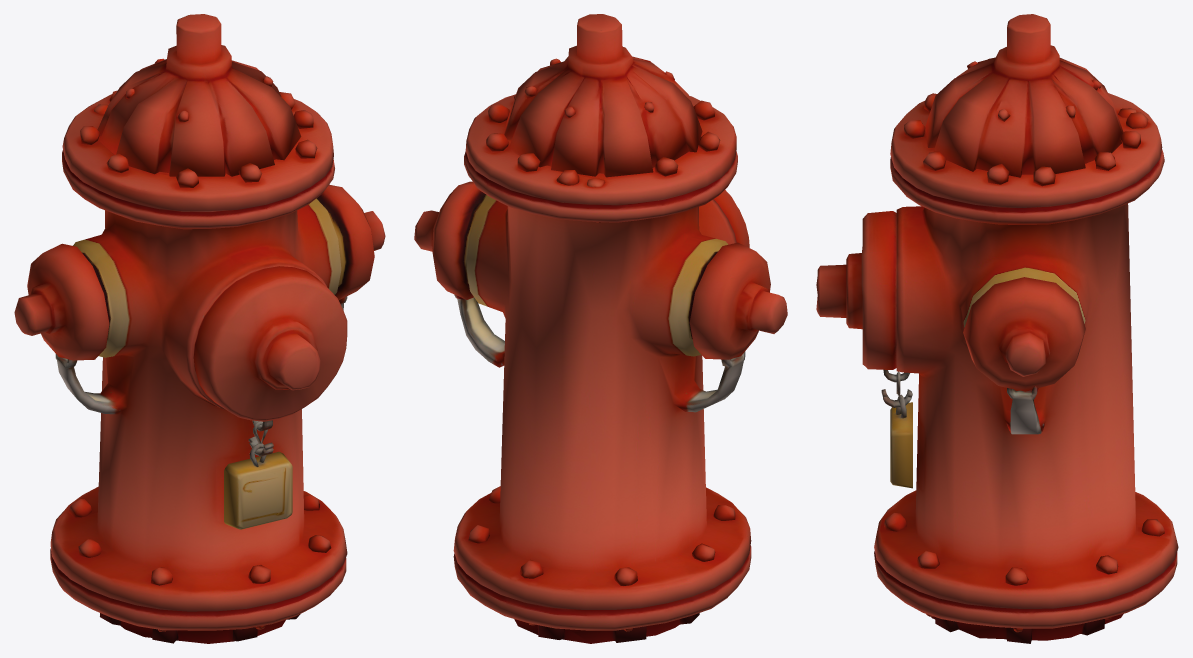
The model's file is hydrant.glb.
The picture shows the model from 3 angles, left to right: view 1: azimuth 30°, elevation 25°; view 2: azimuth 150°, elevation 25°; view 3: azimuth 270°, elevation 25°; orthographic projection.
Visible parts, largest first — view 1: tripo_node_6ee081aa-216f-4da5-98f2-c94f8d3cadb2; view 2: tripo_node_6ee081aa-216f-4da5-98f2-c94f8d3cadb2; view 3: tripo_node_6ee081aa-216f-4da5-98f2-c94f8d3cadb2.
Part boxes in pixels (x1=…): tripo_node_6ee081aa-216f-4da5-98f2-c94f8d3cadb2: x1=14, y1=14, x2=385, y2=643; tripo_node_6ee081aa-216f-4da5-98f2-c94f8d3cadb2: x1=414, y1=14, x2=787, y2=643; tripo_node_6ee081aa-216f-4da5-98f2-c94f8d3cadb2: x1=816, y1=14, x2=1178, y2=643.
Bounding box in the file's own units: 0.5151 × 0.8 × 0.4524.
Materials: 1 (1 with a texture image).
